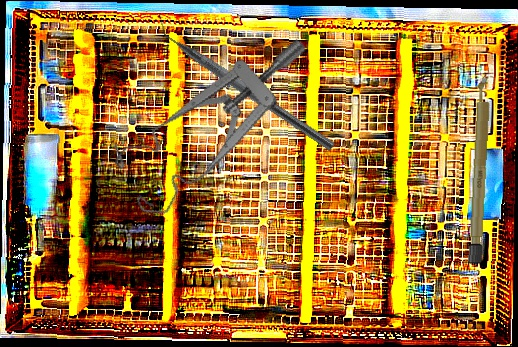Chopper: (143, 9, 346, 153)
Scalpel Handle: (468, 73, 492, 265)
Speculum: (94, 35, 342, 224)
